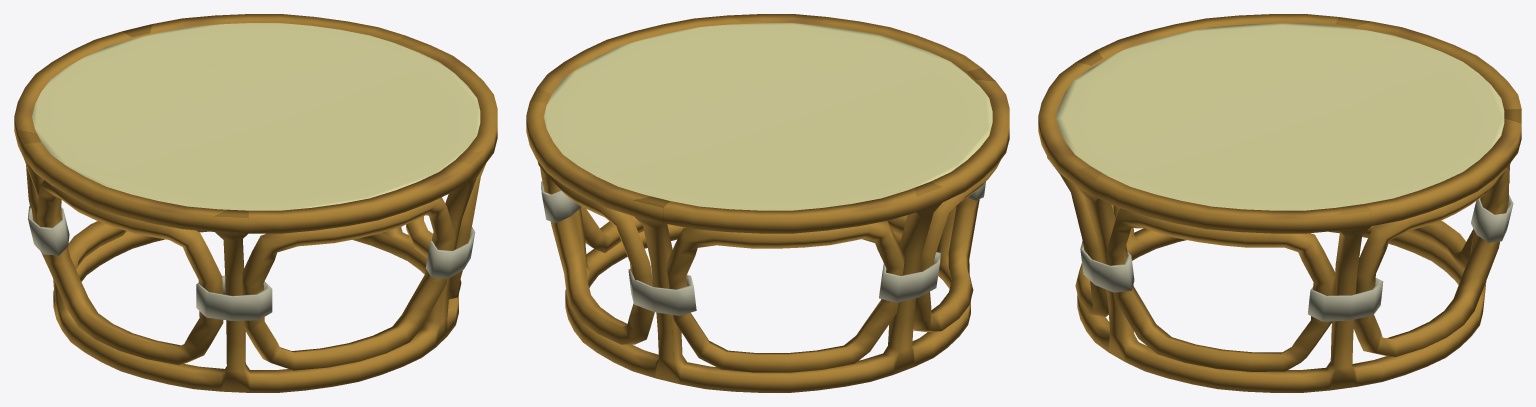
Rendered from RoundTable.fbx.
3 views of the same model, side by side, from view 1: azimuth 30°, elevation 25°; view 2: azimuth 150°, elevation 25°; view 3: azimuth 270°, elevation 25° (orthographic).
Visible parts, largest first — view 1: RoundTable; view 2: RoundTable; view 3: RoundTable.
Boxes of the visible parts, <box> form: RoundTable: <box>14,14,497,392</box>; RoundTable: <box>526,14,1009,392</box>; RoundTable: <box>1038,14,1521,392</box>.
Size of the model in its own units: 137 by 60.02 by 137.
